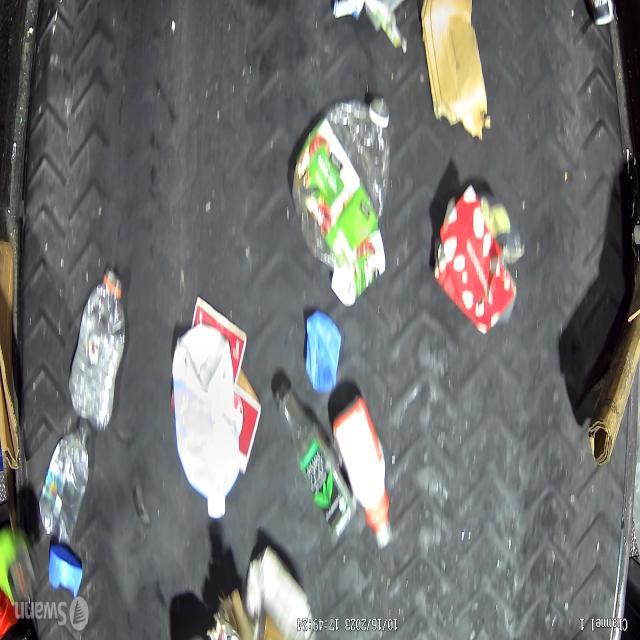milk_jug: (171, 334, 244, 520)
plastic_bottle: (274, 381, 358, 547), (72, 271, 125, 436), (39, 420, 88, 544)
